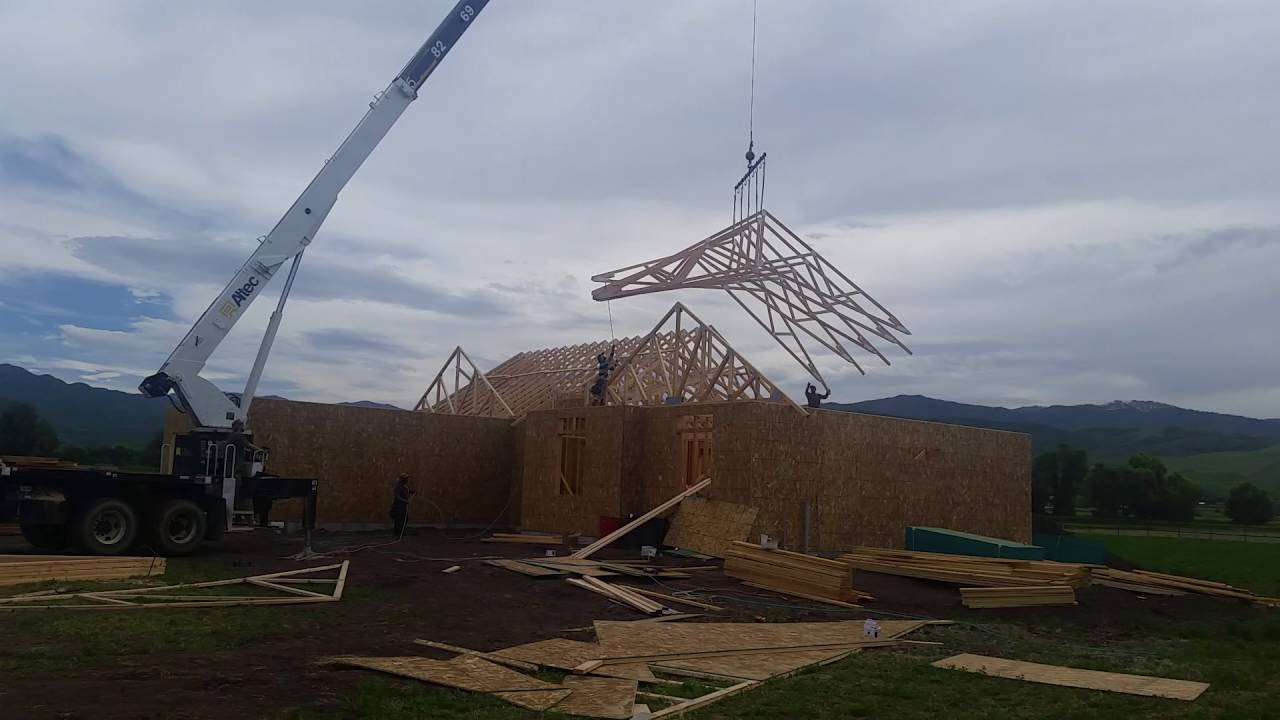crane: (5, 1, 484, 561)
